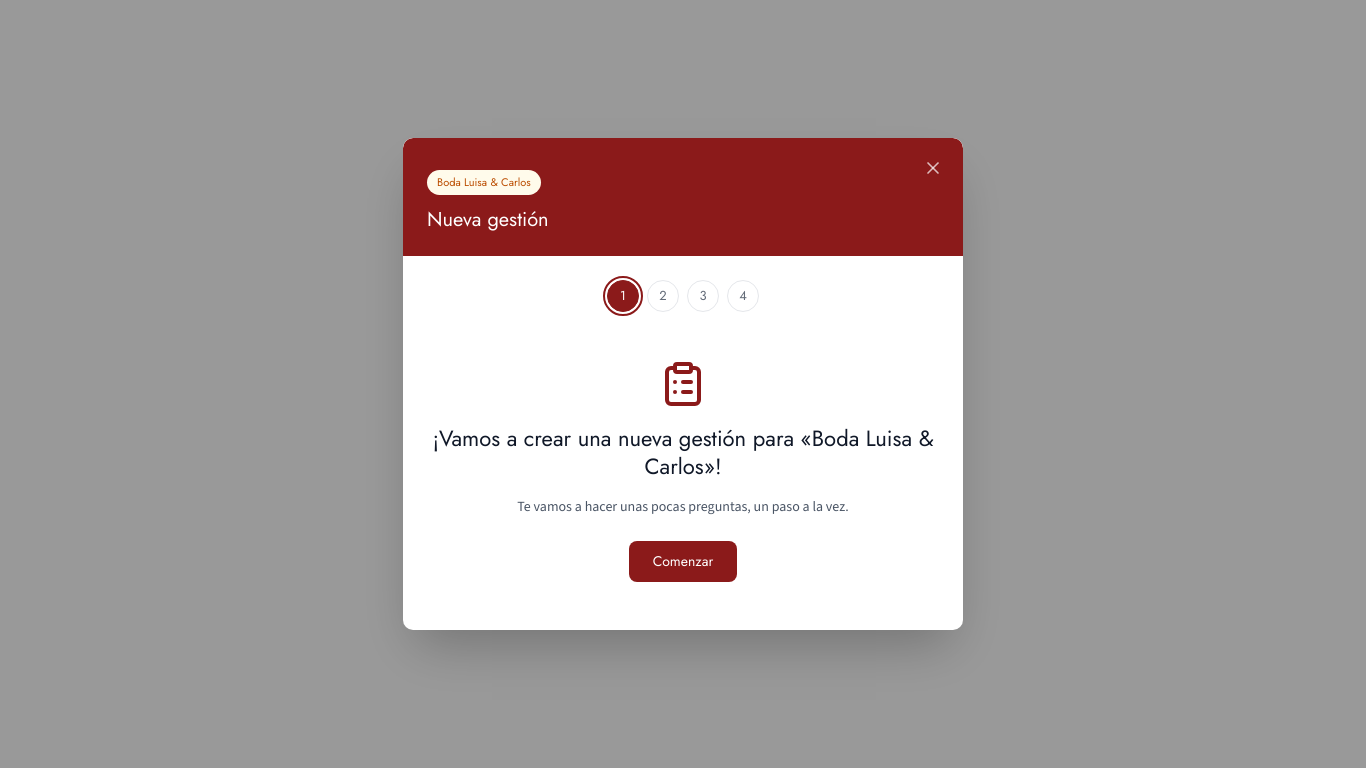
Scenario: SubtaskWizard › 'Siguiente' sin completar los campos obligatorios no avanza y pinta los errores
Click the button "Comenzar": (683,561) [629,541,737,582]
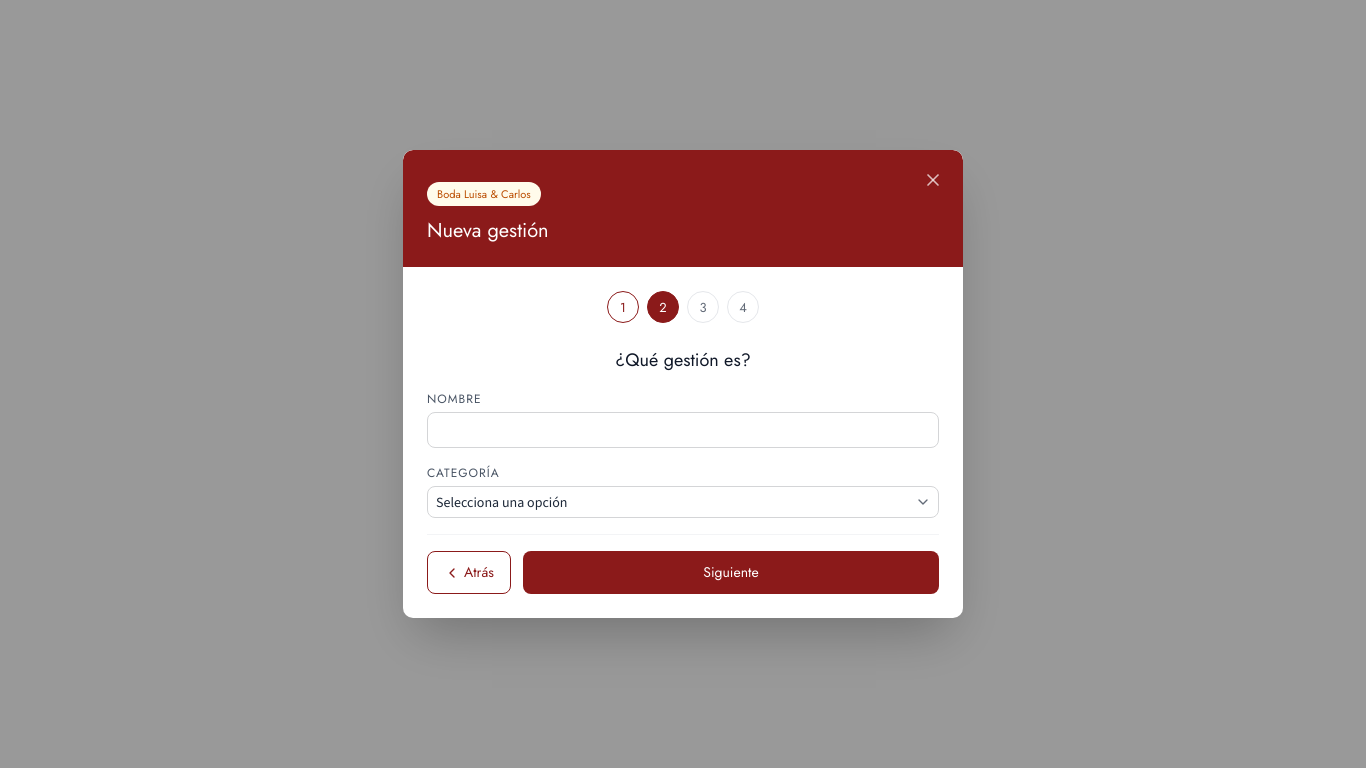
Now the dropdown labelled "Categoría" is enabled, box [427,486,939,518]
Click the button "Siguiente": (731,573) [523,551,939,594]
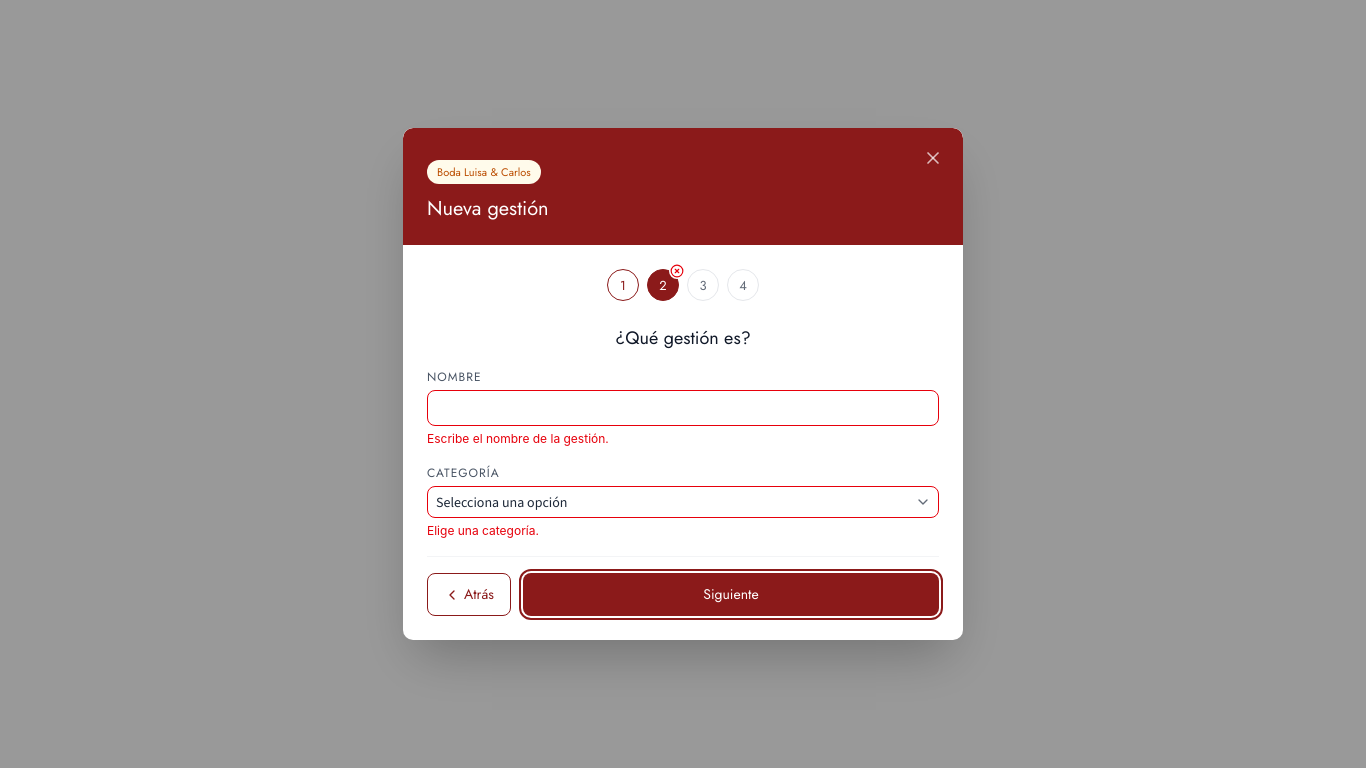
Now the field labelled "Nombre" is shown, box [427,390,939,426]
Now the text "Escribe el nombre de la gestión." is shown, box [427,431,609,446]
Now the text "Elige una categoría." is shown, box [427,523,539,538]
